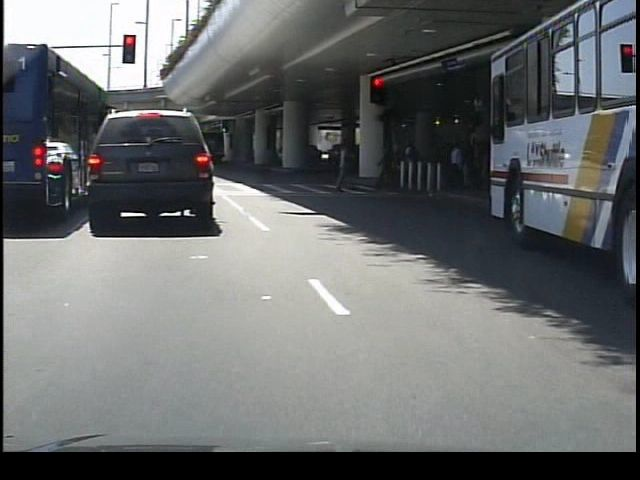person: (330, 134, 359, 196), (441, 136, 470, 195), (376, 136, 402, 191)
